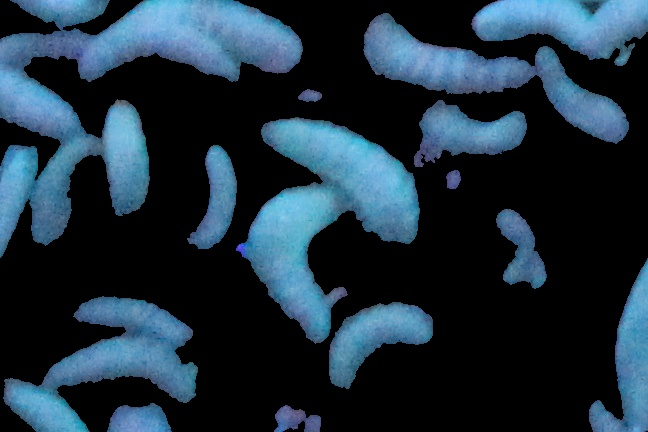larvae: (258, 118, 419, 243), (249, 183, 337, 357), (364, 15, 535, 100), (123, 1, 301, 73), (35, 339, 201, 410), (537, 54, 635, 164), (74, 26, 240, 82), (330, 301, 433, 388), (30, 138, 103, 254), (67, 286, 199, 341), (179, 148, 245, 251), (104, 105, 151, 244), (422, 109, 536, 166), (467, 1, 589, 43), (1, 74, 75, 136), (4, 376, 85, 432), (1, 146, 35, 271), (2, 31, 94, 66), (1, 1, 106, 25)
